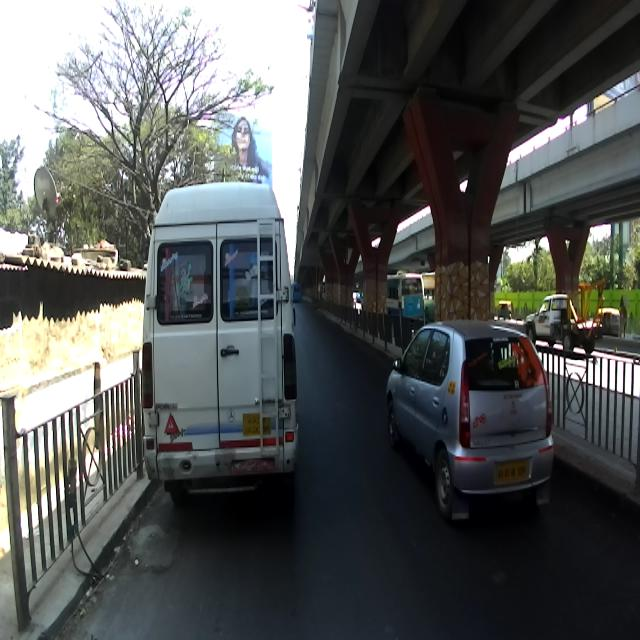car ahead at: (381, 310, 562, 535)
truck ahead at: (134, 173, 306, 513)
